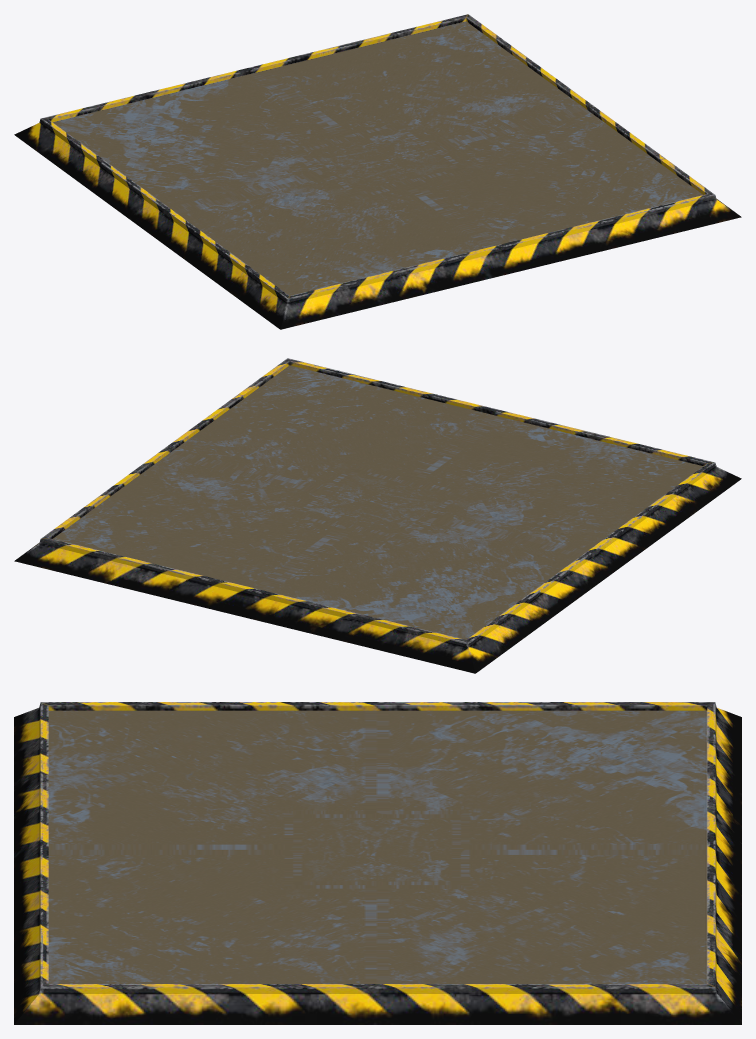
The model's file is tile-lp.glb.
3 renders of one model, top to bottom at view 1: azimuth 30°, elevation 25°; view 2: azimuth 150°, elevation 25°; view 3: azimuth 270°, elevation 25°, orthographic. The views are drawn at different scales.
Parts seen in each view (by area): view 1: grid, tile; view 2: grid, tile; view 3: grid, tile.
Boxes of the visible parts, bbox=[...] form: grid: bbox=[53, 21, 702, 295]; tile: bbox=[14, 14, 741, 329]; grid: bbox=[53, 365, 702, 639]; tile: bbox=[14, 358, 741, 673]; grid: bbox=[48, 710, 707, 983]; tile: bbox=[14, 702, 741, 1024].
Size of the model in its own units: 2 by 0.0797 by 2.
3 materials, 3 textured.
